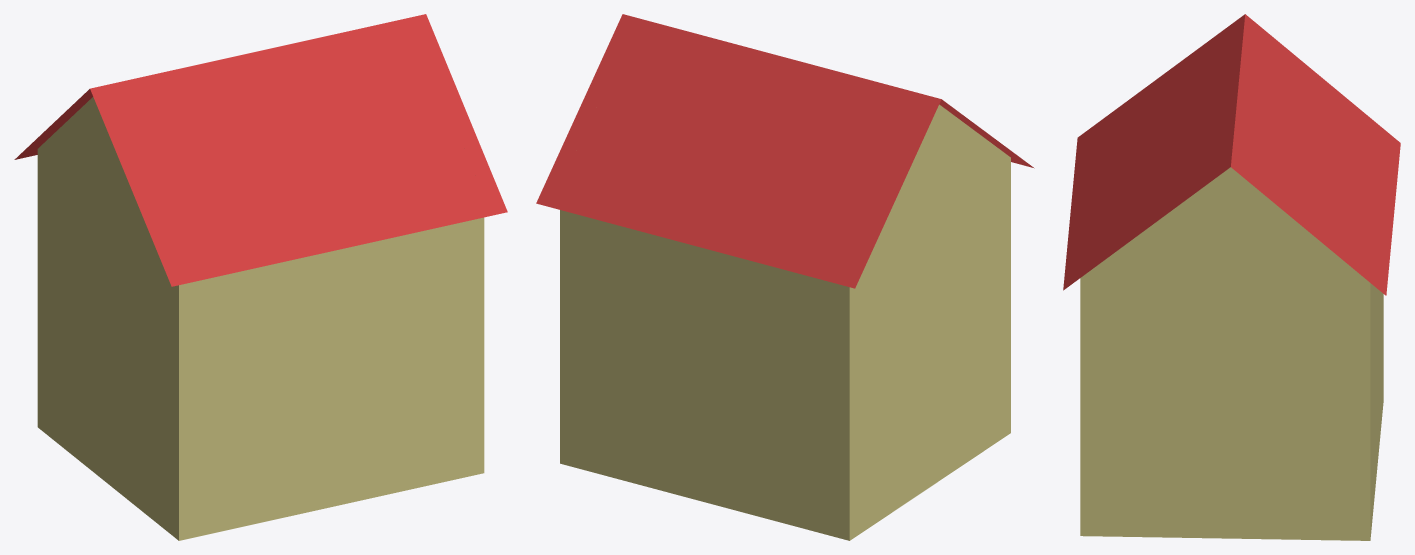
3 renders of one model, left to right at view 1: azimuth 30°, elevation 25°; view 2: azimuth 150°, elevation 25°; view 3: azimuth 270°, elevation 25°, orthographic. The views are drawn at different scales.
Bounding box in the file's own units: 11.3 × 10.17 × 12.58.
